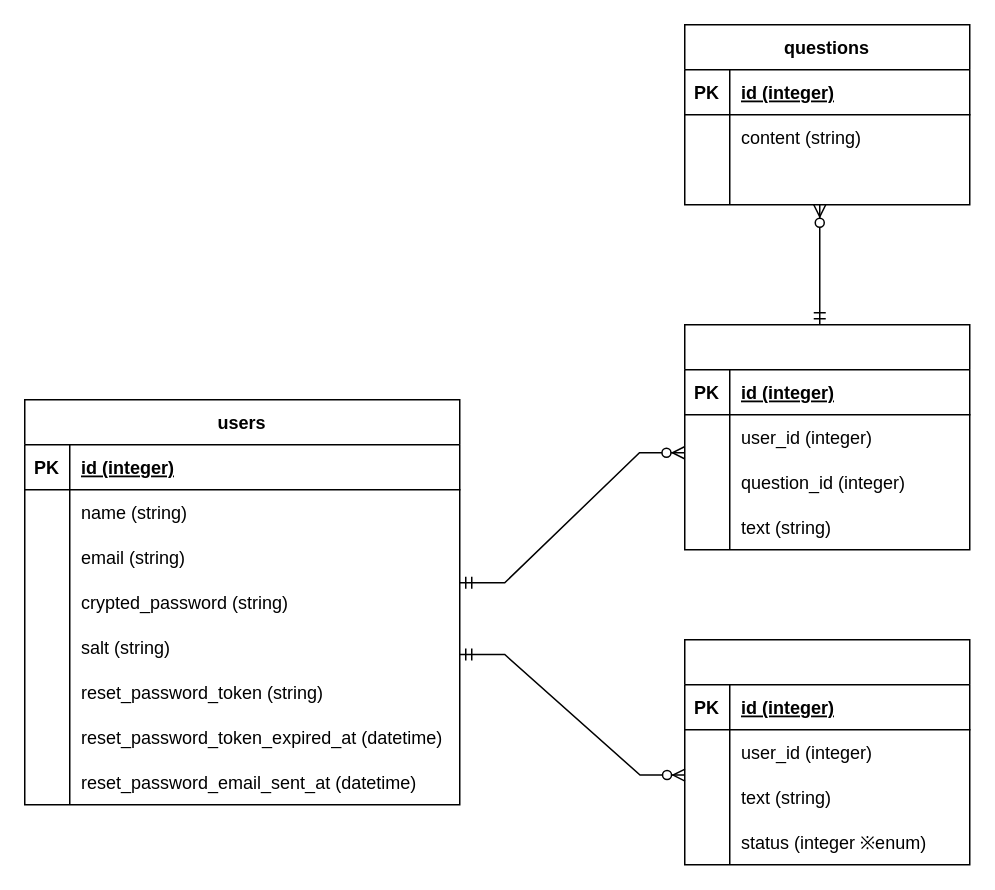
This 995x890 diagram has some shape labels left out. Each missing label, with the box of its shape:
answers: (683, 323, 970, 550)
articles: (683, 638, 970, 865)
